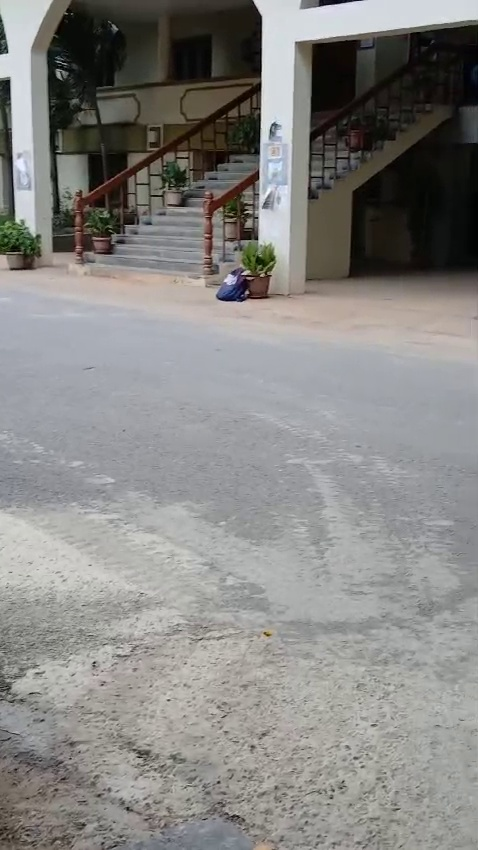bag: (212, 257, 246, 307)
